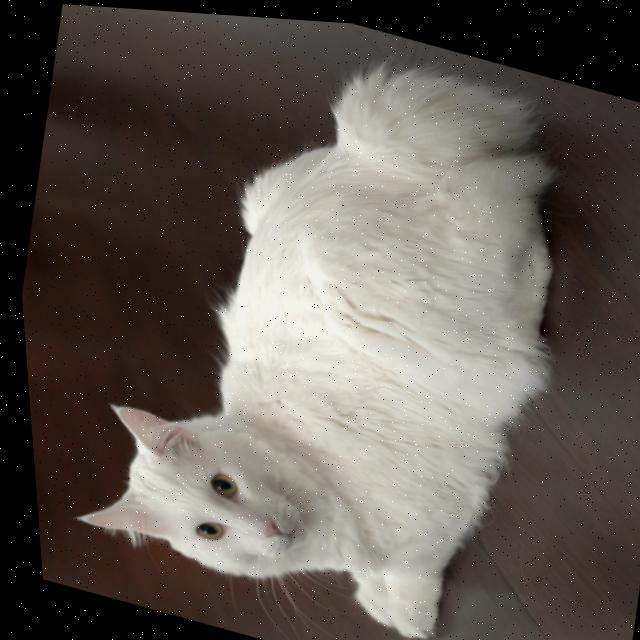American Bobtail: (19, 1, 627, 640)
